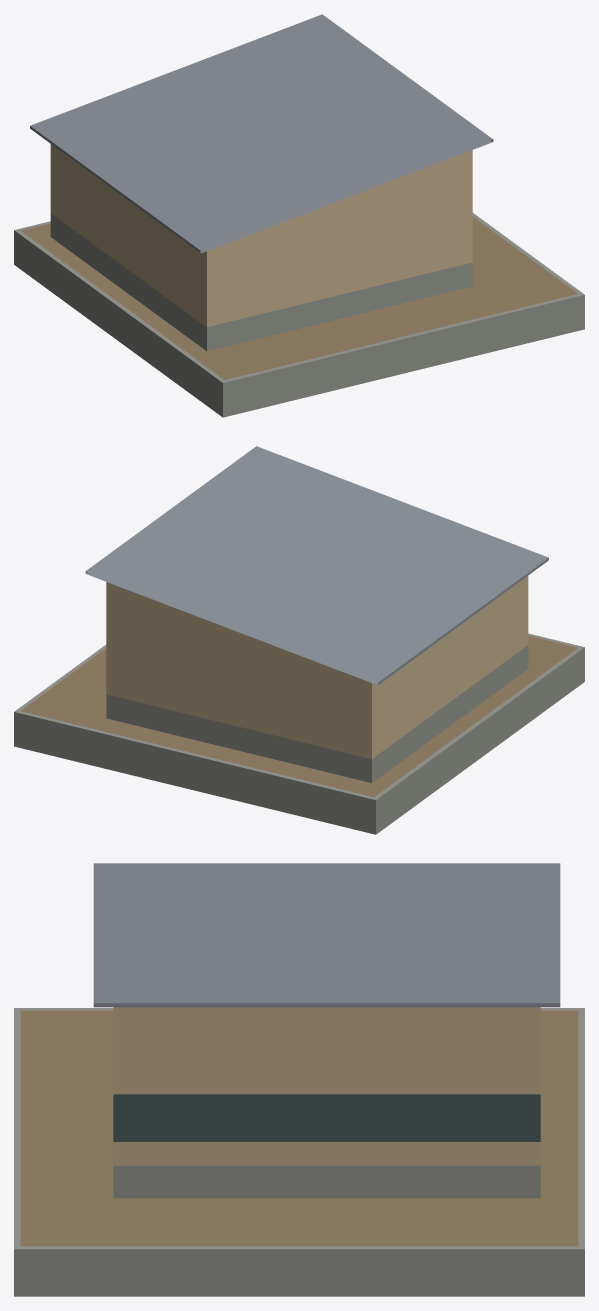
File: site_hut1_far.fbx
The picture shows the model from 3 angles, top to bottom: view 1: azimuth 30°, elevation 25°; view 2: azimuth 150°, elevation 25°; view 3: azimuth 270°, elevation 25°; orthographic projection. The views are drawn at different scales.
Parts seen in each view (by area): view 1: a2015.site_hut1.far; view 2: a2015.site_hut1.far; view 3: a2015.site_hut1.far.
Boxes of the visible parts, x1=… form: a2015.site_hut1.far: x1=14, y1=14, x2=584, y2=417; a2015.site_hut1.far: x1=14, y1=446, x2=584, y2=834; a2015.site_hut1.far: x1=14, y1=863, x2=584, y2=1296.
Bounding box in the file's own units: 10.4 × 5.05 × 10.4.
